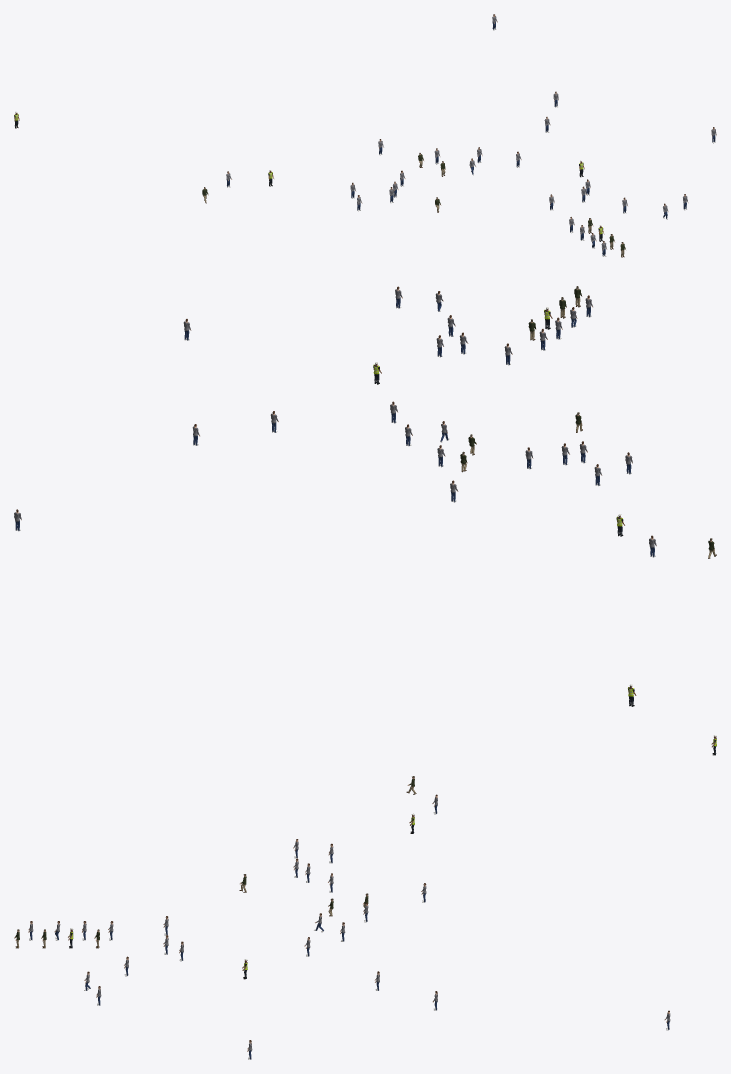
The model's file is people.glb.
3 renders of one model, top to bottom at view 1: azimuth 30°, elevation 25°; view 2: azimuth 150°, elevation 25°; view 3: azimuth 270°, elevation 25°, orthographic. The views are drawn at different scales.
Size of the model in its own units: 62.55 by 2.42 by 60.52.
Materials: 36 (36 with a texture image).
